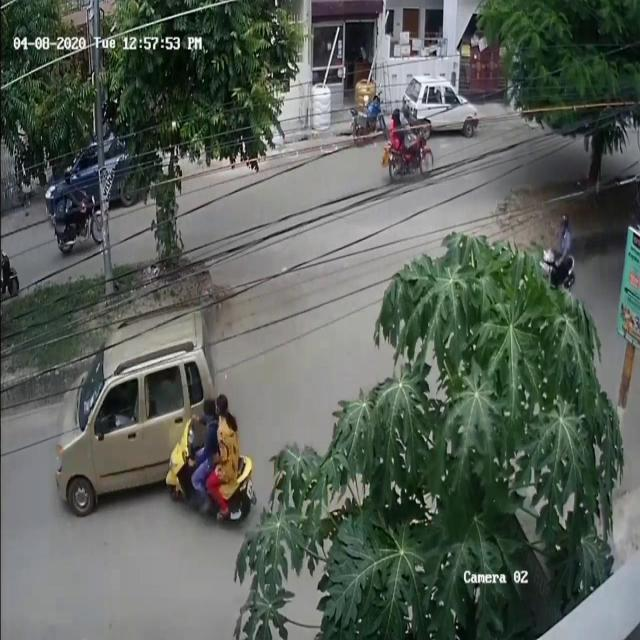accident: (53, 308, 259, 557)
